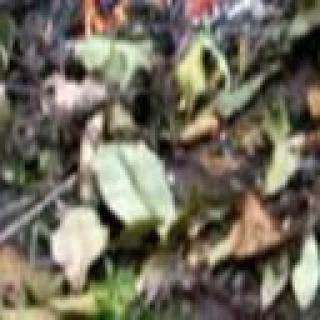fire: (85, 0, 256, 30)
